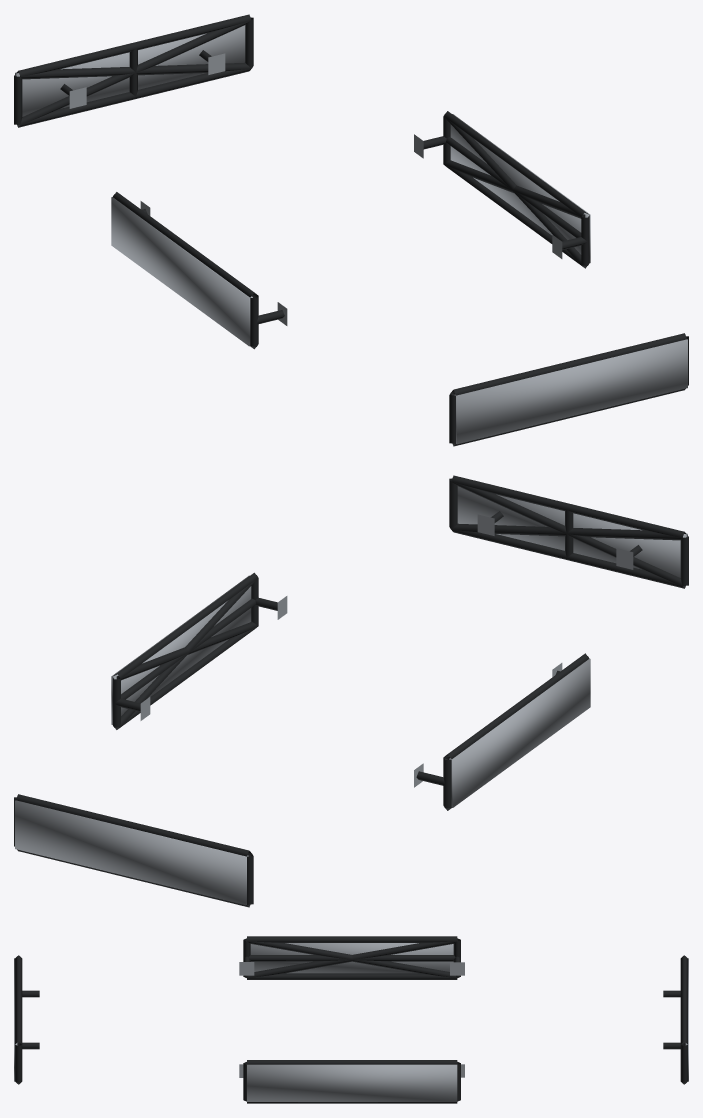
File: vantra_estilete_protecao.glb
The picture shows the model from 3 angles, top to bottom: view 1: azimuth 30°, elevation 25°; view 2: azimuth 150°, elevation 25°; view 3: azimuth 270°, elevation 25°; orthographic projection. The views are drawn at different scales.
Parts seen in each view (by area): view 1: Protection_front_Level3_Details, Protection_left_Level3_Details, Protection_rear_Level1_Details, Protection_rear_Level3_Details, Protection_rear_Level2_Details, Protection_right_Level1_Details, Protection_right_Level2_Details, Protection_right_Level3_Details, Protection_front_Level1_Details, Protection_left_Level1_Details; view 2: Protection_rear_Level3_Details, Protection_left_Level3_Details, Protection_front_Level1_Details, Protection_front_Level3_Details, Protection_front_Level2_Details, Protection_right_Level1_Details, Protection_right_Level2_Details, Protection_right_Level3_Details, Protection_rear_Level1_Details, Protection_left_Level1_Details; view 3: Protection_right_Level3_Details, Protection_left_Level2_Details, Protection_left_Level1_Details, Protection_left_Level3_Details, Protection_right_Level1_Details, Protection_rear_Level1_Details, Protection_front_Level1_Details.
Boxes of the visible parts, x1,y1,x2,y2 form: Protection_front_Level3_Details: (454, 339, 687, 444); Protection_left_Level3_Details: (111, 197, 252, 346); Protection_rear_Level1_Details: (14, 14, 253, 127); Protection_rear_Level3_Details: (15, 25, 245, 116); Protection_rear_Level2_Details: (16, 21, 251, 126); Protection_right_Level1_Details: (414, 111, 589, 268); Protection_right_Level2_Details: (444, 117, 588, 267); Protection_right_Level3_Details: (450, 114, 590, 262); Protection_front_Level1_Details: (449, 333, 688, 446); Protection_left_Level1_Details: (113, 192, 287, 349); Protection_rear_Level3_Details: (15, 800, 248, 905); Protection_left_Level3_Details: (449, 658, 590, 807); Protection_front_Level1_Details: (449, 475, 688, 588); Protection_front_Level3_Details: (457, 486, 687, 577); Protection_front_Level2_Details: (451, 482, 686, 587); Protection_right_Level1_Details: (112, 572, 287, 729); Protection_right_Level2_Details: (114, 578, 258, 729); Protection_right_Level3_Details: (111, 575, 251, 724); Protection_rear_Level1_Details: (14, 794, 253, 907); Protection_left_Level1_Details: (414, 653, 589, 810); Protection_right_Level3_Details: (247, 1064, 457, 1101); Protection_left_Level2_Details: (246, 939, 457, 978); Protection_left_Level1_Details: (239, 936, 464, 979); Protection_left_Level3_Details: (250, 943, 453, 973); Protection_right_Level1_Details: (239, 1060, 464, 1103); Protection_rear_Level1_Details: (663, 955, 687, 1084); Protection_front_Level1_Details: (15, 955, 39, 1084).
Size of the model in its own units: 2.22 by 0.354 by 4.97.
Materials: 1 (1 with a texture image).
